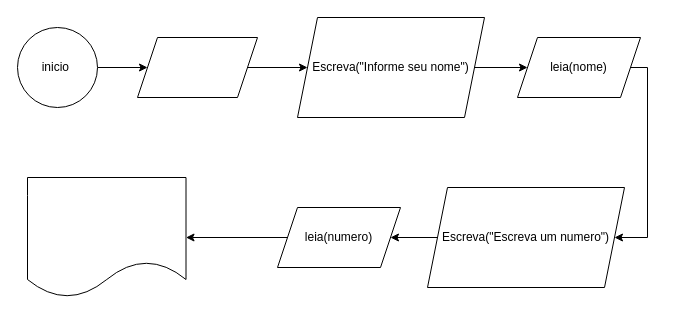
Some shapes in this 673 by 315 pixel diagram are drawn without their labels. The shapes that lost their labels are listed below. From the top down, each one's centre as x and y in pixels, then its label:
(197,67): var nome var numero
(106,237): Escreva("Olá", nome, ", o numero informado foi ", numero )
